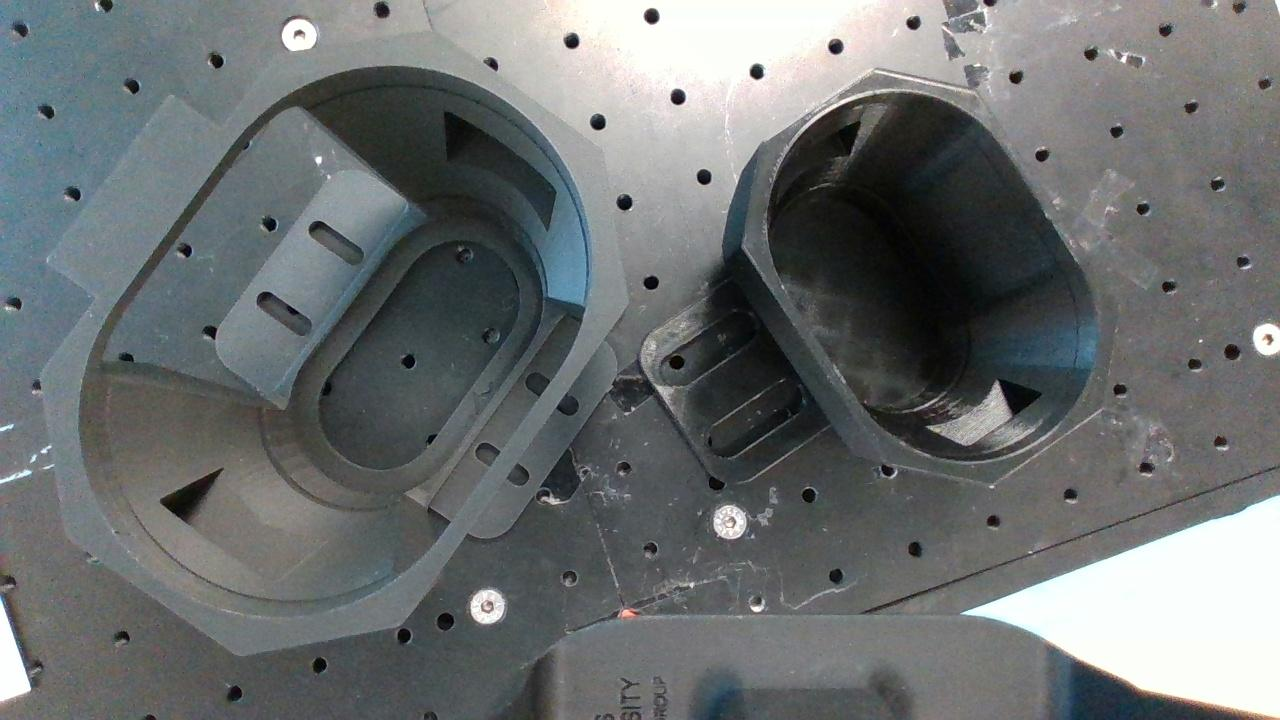big_interface: (40, 28, 630, 657)
small_interface: (743, 69, 1118, 488)
